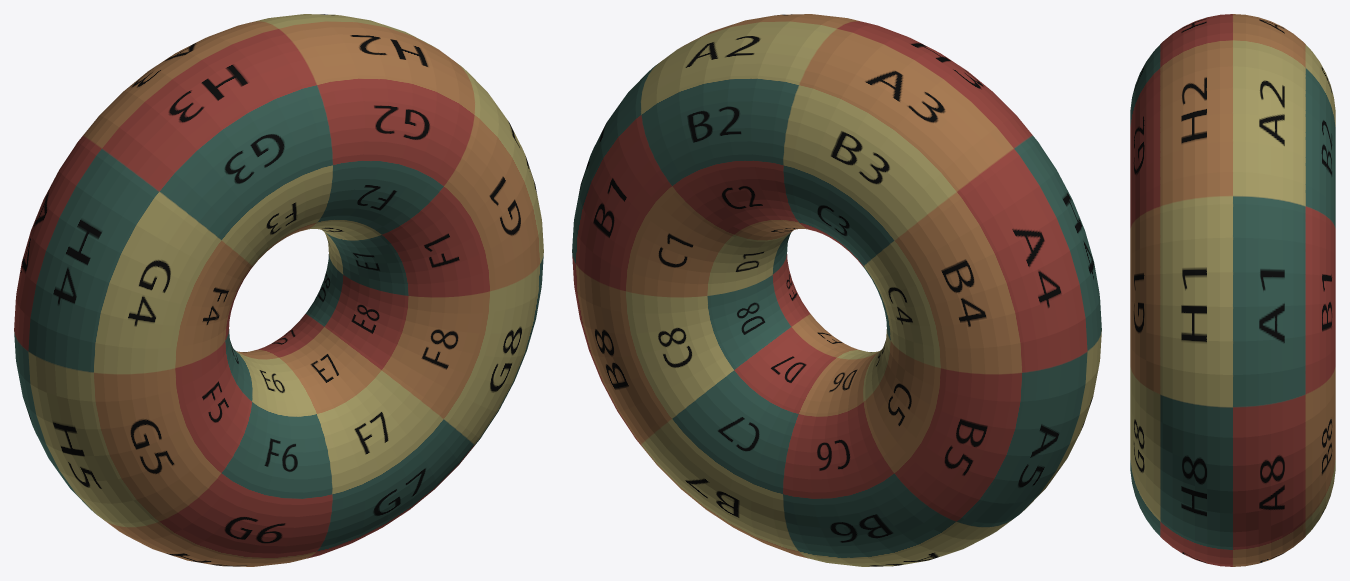
The model's file is texture_torus_R9_r28.glb.
The picture shows the model from 3 angles, left to right: view 1: azimuth 30°, elevation 25°; view 2: azimuth 150°, elevation 25°; view 3: azimuth 270°, elevation 25°; orthographic projection. The views are drawn at different scales.
Parts seen in each view (by area): view 1: world; view 2: world; view 3: world.
Boxes of the visible parts, bbox=[...] form: world: bbox=[14, 14, 543, 566]; world: bbox=[572, 14, 1101, 566]; world: bbox=[1130, 14, 1335, 566].
Size of the model in its own units: 25.47 by 25.42 by 9.45.
Materials: 1 (1 with a texture image).
